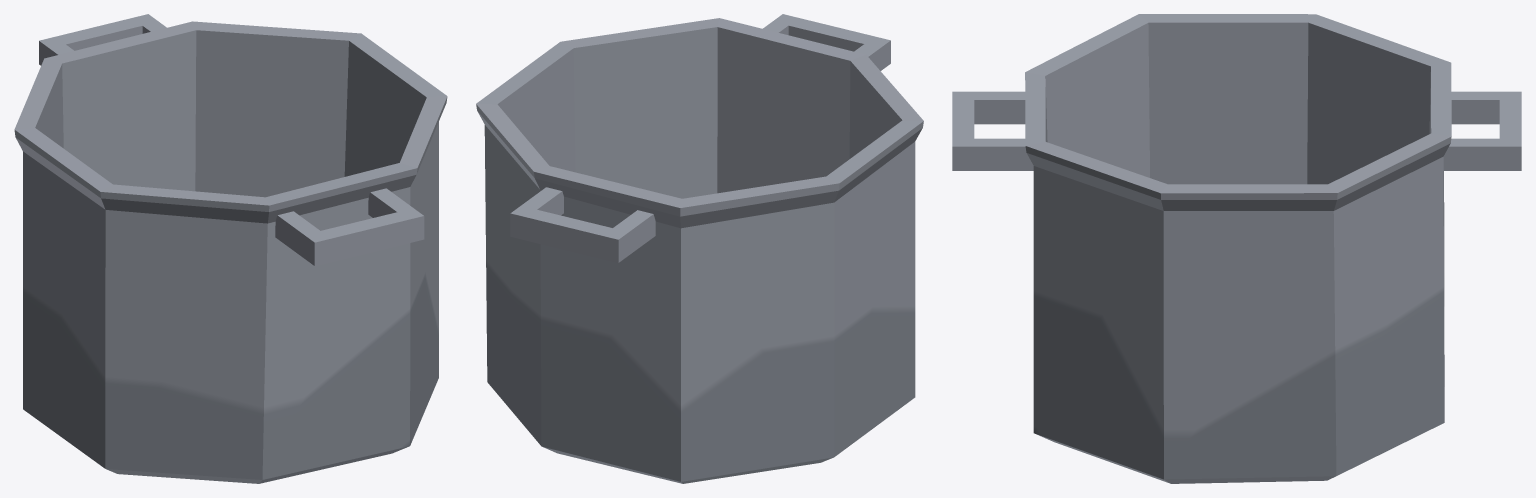
File: SM_Prop_Pot_03.fbx
3 views of the same model, side by side, from view 1: azimuth 30°, elevation 25°; view 2: azimuth 150°, elevation 25°; view 3: azimuth 270°, elevation 25° (orthographic). The views are drawn at different scales.
Visible parts, largest first — view 1: SM_Prop_Pot_03; view 2: SM_Prop_Pot_03; view 3: SM_Prop_Pot_03.
Boxes of the visible parts, x1,y1,x2,y2 form: SM_Prop_Pot_03: (14, 14, 447, 483); SM_Prop_Pot_03: (476, 14, 923, 483); SM_Prop_Pot_03: (952, 14, 1521, 483).
Size of the model in its own units: 60.86 by 47.76 by 81.26.
